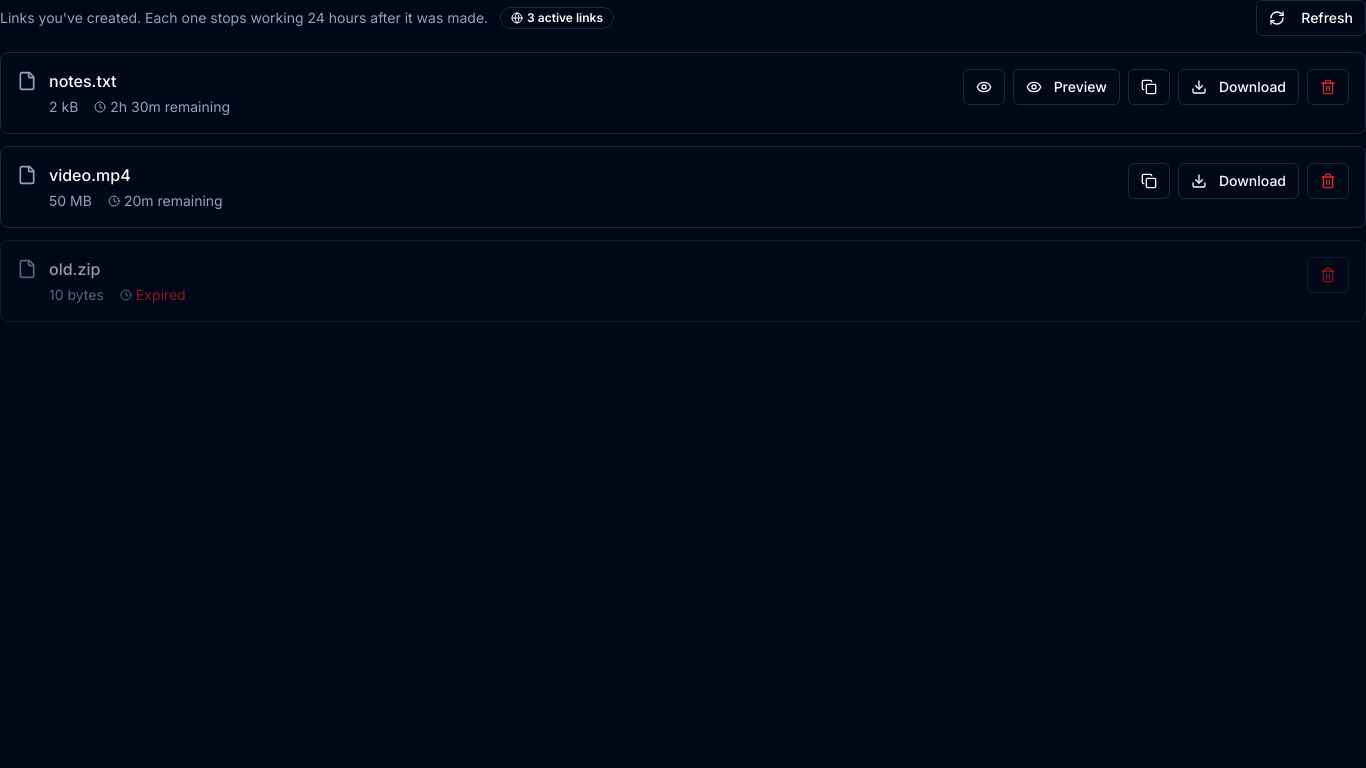
Test: PublicLinksPanel › revokes a link after confirmation
Expected: the heading "notes.txt" is shown, [49,71,116,91]
What coordinates should you click on to do the following:
click the button named "Revoke link" in the row of "2h 30m remaining"
I would click on:
 (1328, 87)
Its box is [1307,69,1349,105].
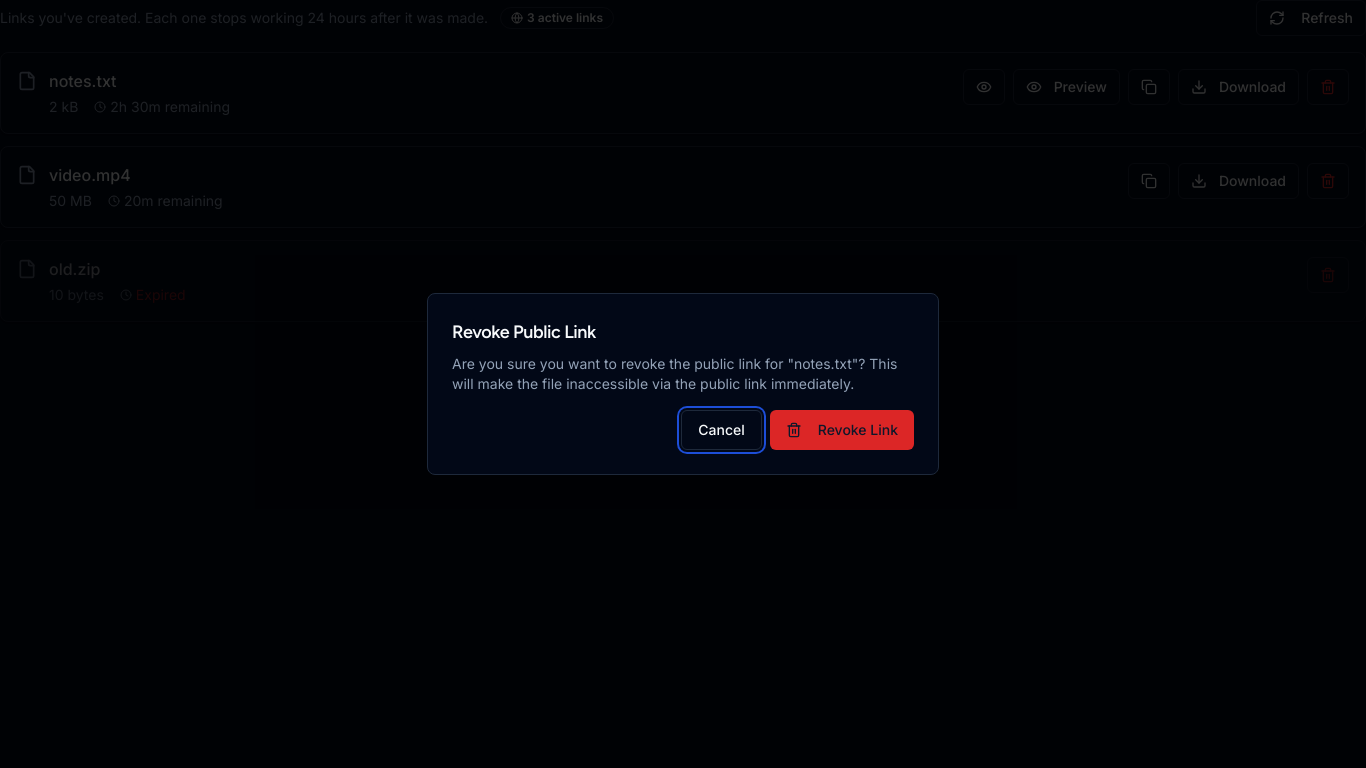
Now the text "revoke the public link for \"notes.txt\"" is shown, box [452,355,897,392]
What coordinates should you click on to do the following:
click the button "Revoke Link"
I would click on:
 (842, 430)
Its box is [770,410,914,450].
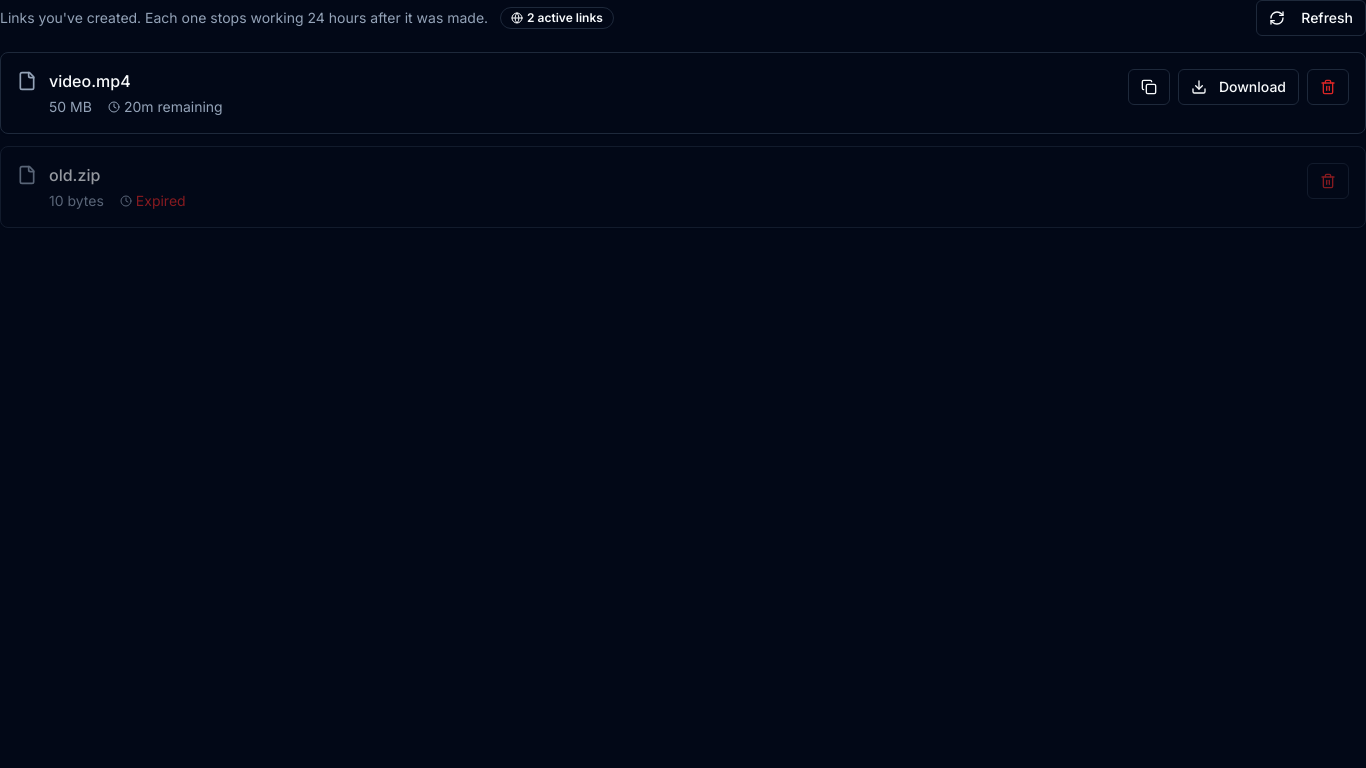
Now the heading "notes.txt" is gone
Now the text "2 active links" is shown, box [500,7,614,29]
